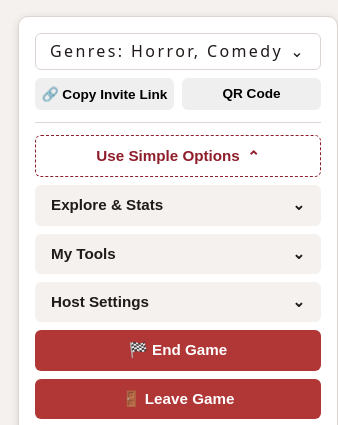
Test case: GameMenu › shows session lifetime only in advanced options for a host
(page scrolled)
expect the button "⏳ Session Lifetime" is not shown: met
Click the button "Host Settings" at x=100, y=302, box [35, 282, 321, 322]
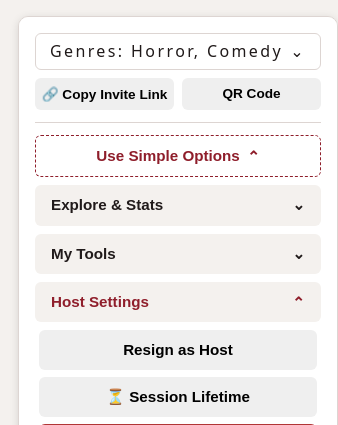
expect the button "⏳ Session Lifetime" is shown: met, box [39, 377, 317, 417]
